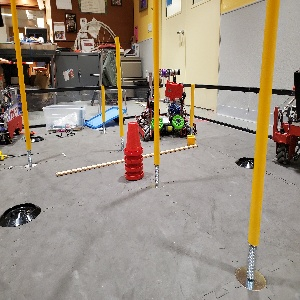Red_4: (121, 120, 145, 181)
